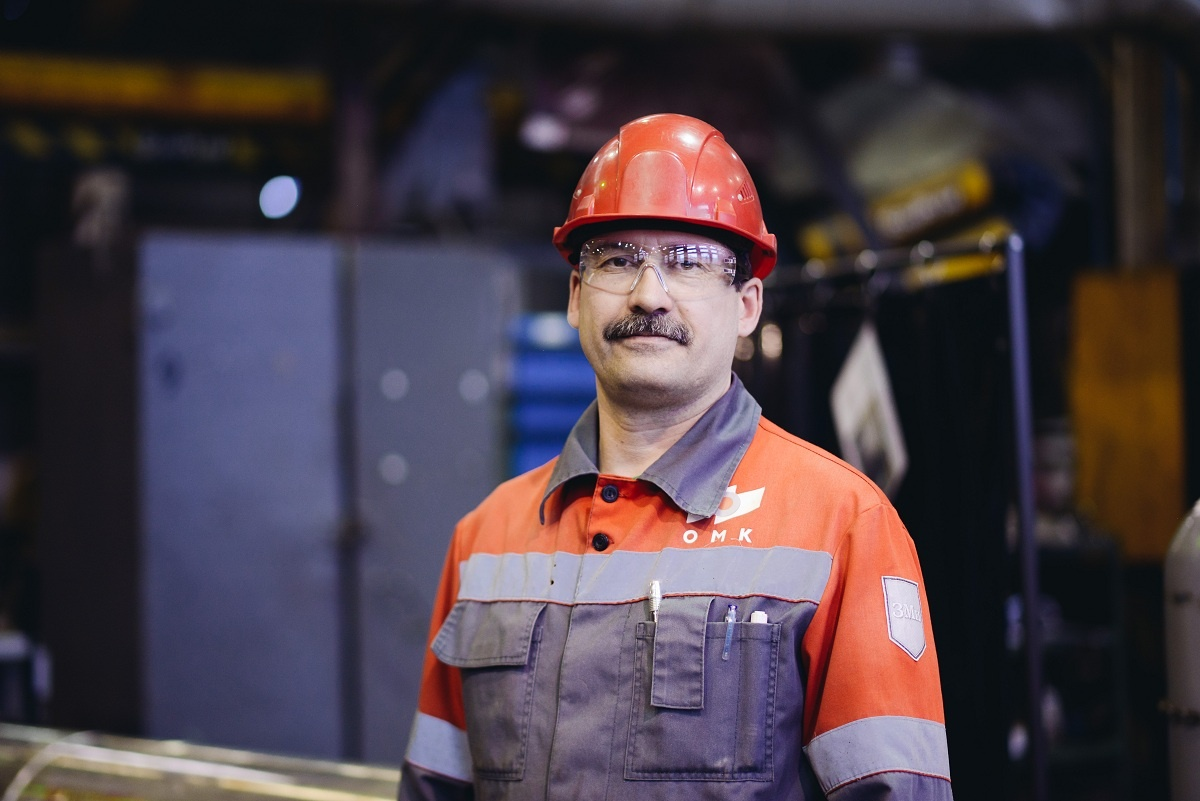person: (399, 112, 953, 801)
